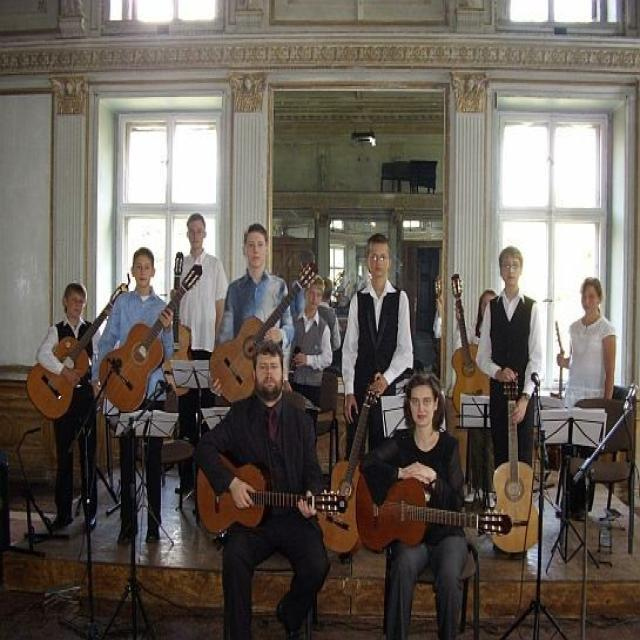guitar: (98, 259, 205, 414), (209, 262, 319, 411), (25, 282, 130, 422), (354, 463, 512, 553), (194, 450, 349, 539), (311, 383, 381, 551), (487, 366, 544, 555), (451, 262, 492, 430), (160, 249, 197, 400)
